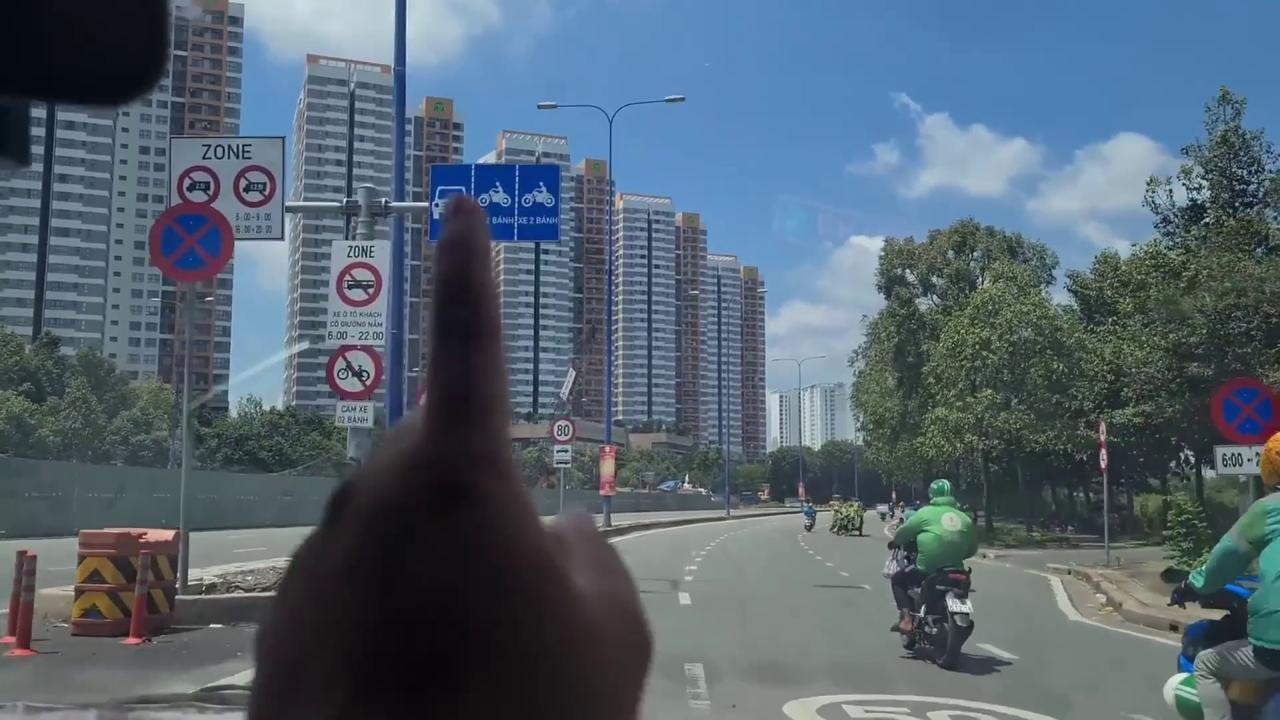Biển phụ: (333, 399, 377, 430), (552, 443, 572, 468)
Cấm cac phương tiện hoạt động trong khung giờ cố định: (165, 134, 288, 244), (326, 237, 388, 346)
Cấm dừng - Cấm đỗ: (147, 200, 235, 284), (1209, 374, 1280, 444)
Cấm xe máy: (326, 343, 384, 401)
Giới hạn tốc độ 80Km/h: (551, 417, 577, 443)
Làn đường cho từng xe: (426, 160, 563, 244)
